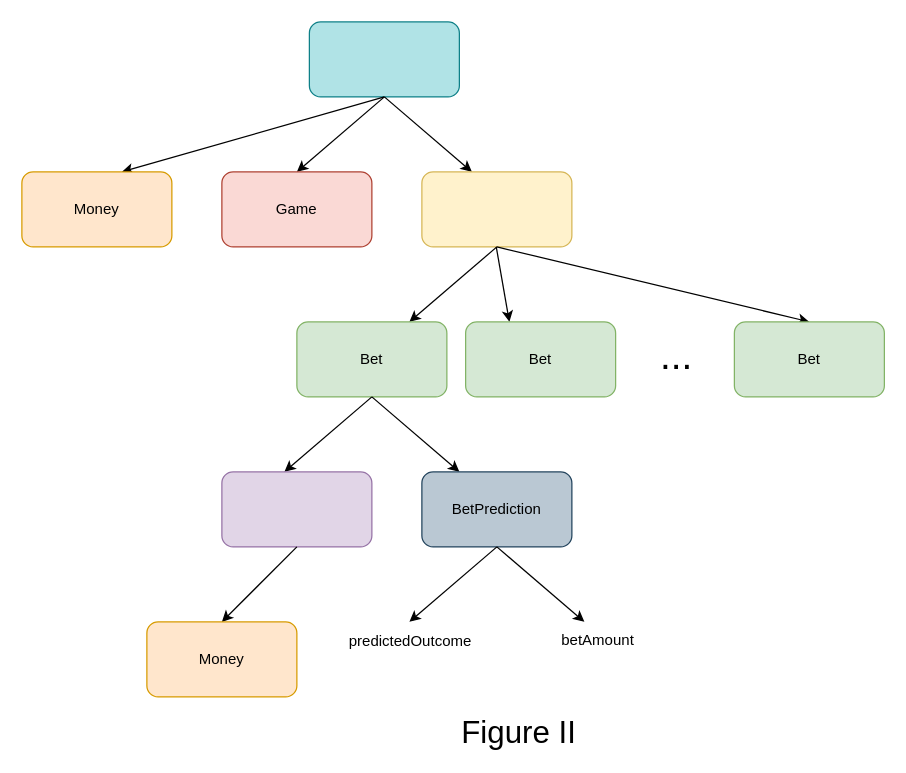
Image size: 906x773. Some labels were removed from this diagram. The box of each missing label's shape, as (x1, y1, x2, y2) in pixels:
BetList: (421, 171, 572, 247)
Bettor: (221, 471, 372, 547)
Casino: (308, 21, 459, 97)
